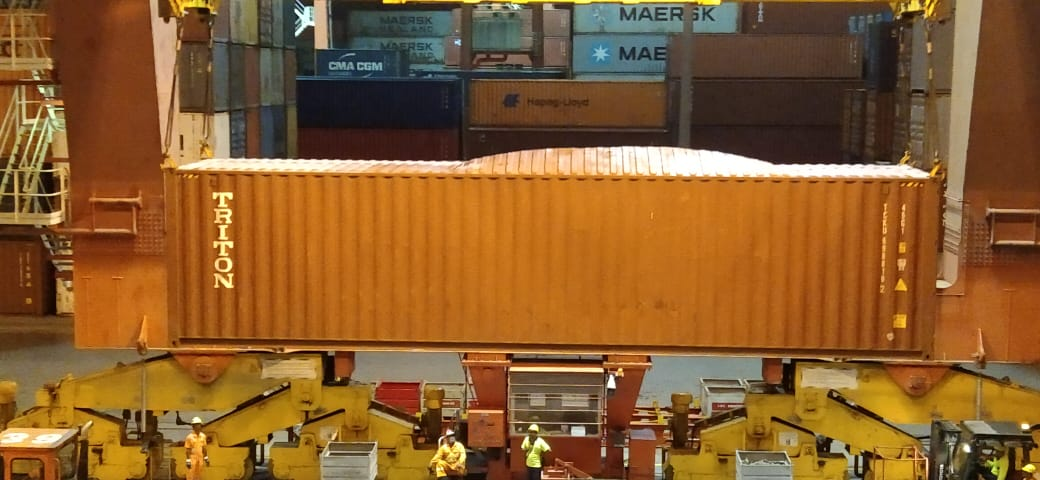bulged: (456, 128, 787, 198)
